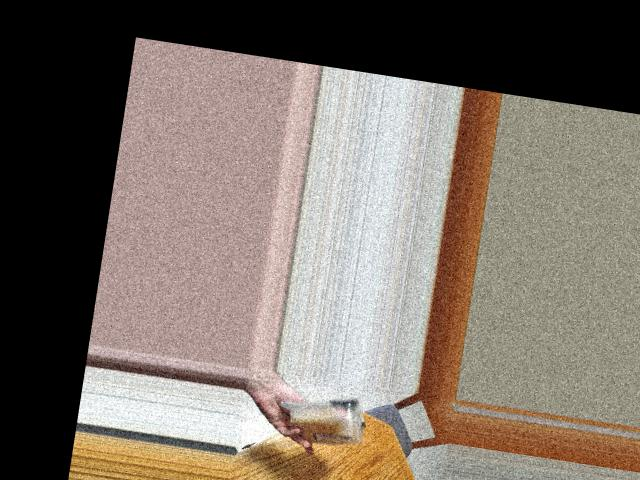cheese: (290, 395, 362, 448)
